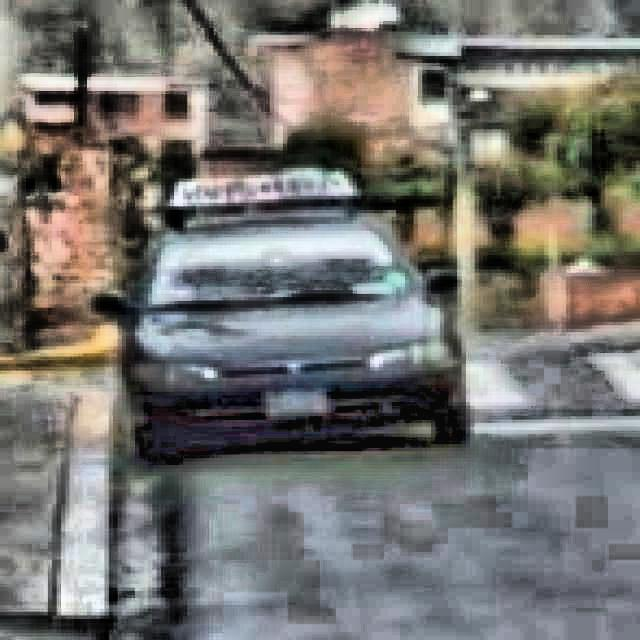carro: (109, 186, 463, 469)
